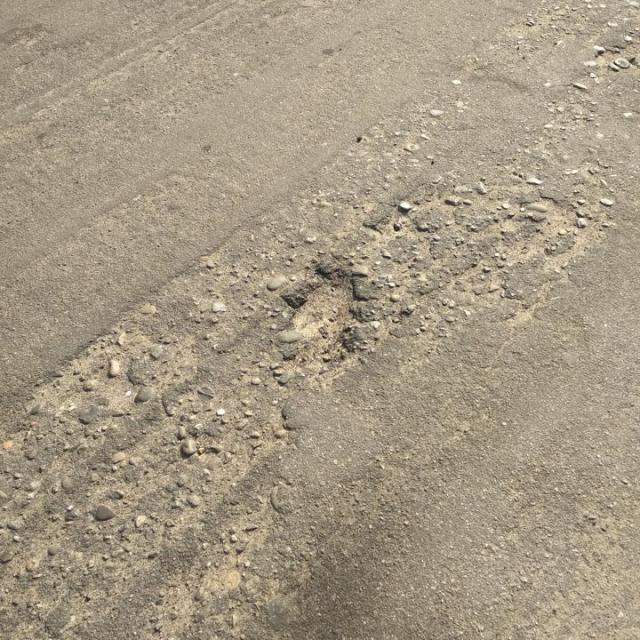Pothole: (278, 266, 365, 372), (368, 196, 426, 248)
